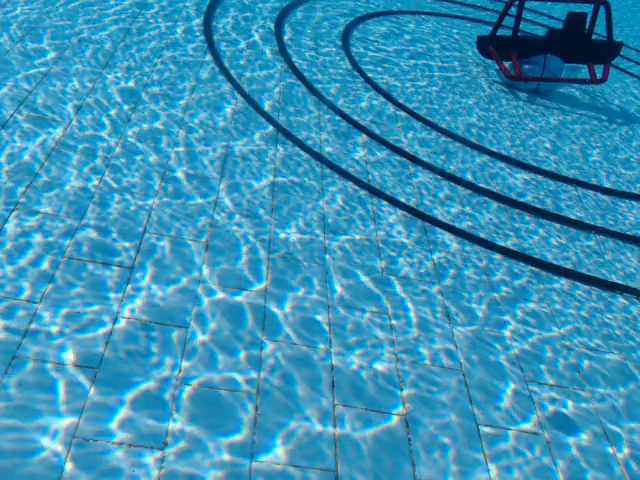submarine: (474, 1, 625, 86)
